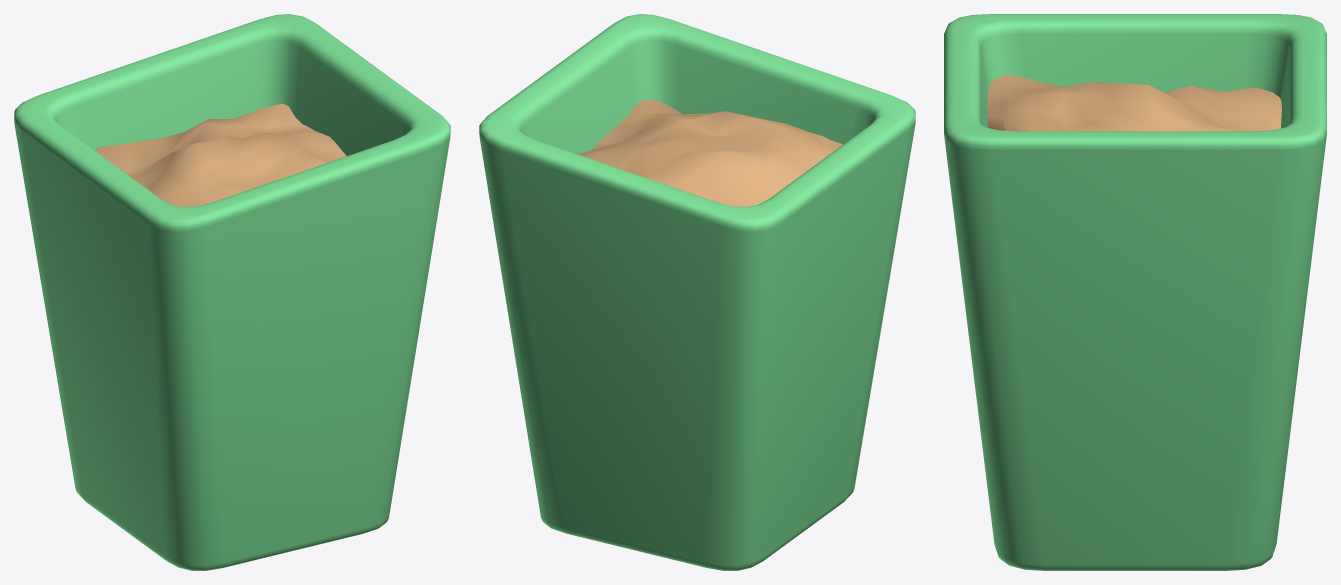
File: Trash_Can.fbx
3 renders of one model, left to right at view 1: azimuth 30°, elevation 25°; view 2: azimuth 150°, elevation 25°; view 3: azimuth 270°, elevation 25°, orthographic. The views are drawn at different scales.
Visible parts, largest first — view 1: Trash_Can; view 2: Trash_Can; view 3: Trash_Can.
Boxes of the visible parts, x1,y1,x2,y2 form: Trash_Can: [14, 14, 450, 570]; Trash_Can: [479, 14, 915, 570]; Trash_Can: [944, 14, 1326, 570].
Bounding box in the file's own units: 6.21 × 8.14 × 6.21.
